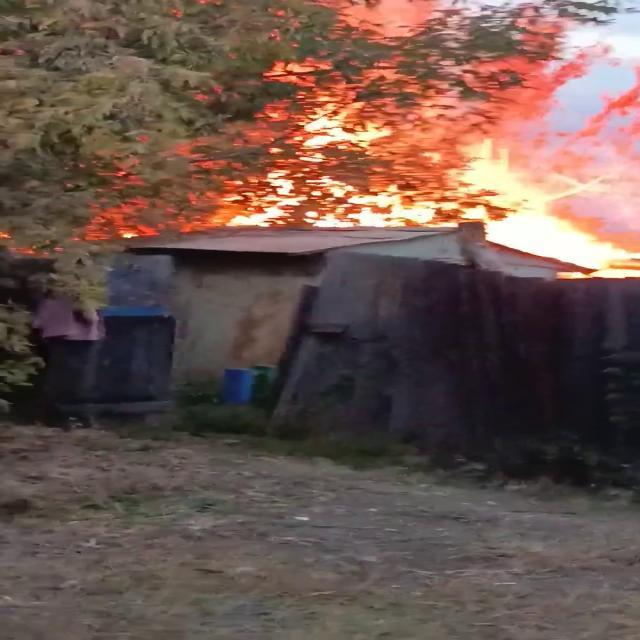Fire: (194, 0, 636, 275)
